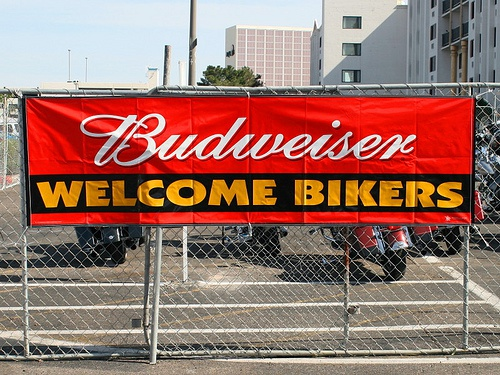non-vehicle: (306, 225, 411, 279), (404, 193, 484, 254), (75, 224, 146, 262), (475, 129, 499, 222), (223, 223, 288, 255)
